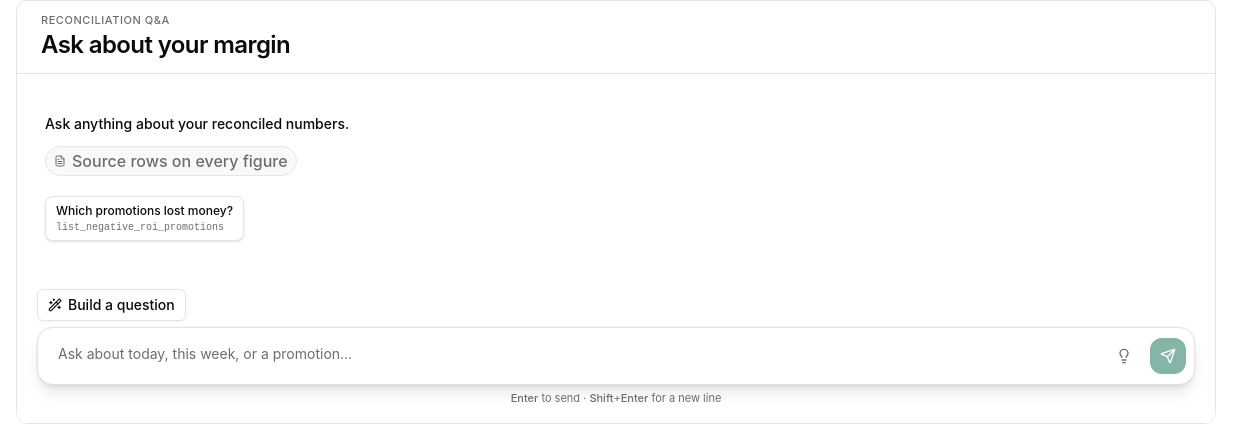
Test: ChatPanel › renders an empty conversation as a starter-question state, and submits a suggestion
The width and height of the screenshot is (1233, 441).
Click the button "Which promotions lost money? list_negative_roi_promotions". click: (144, 219)
box: [45, 196, 244, 241]
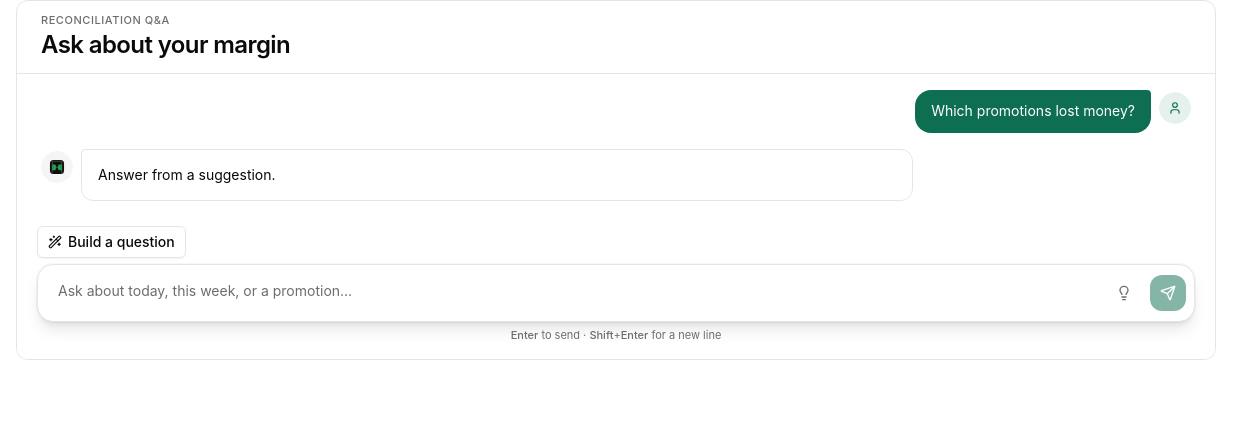
Check: the text "Answer from a suggestion." is shown, box [98, 166, 276, 183]
